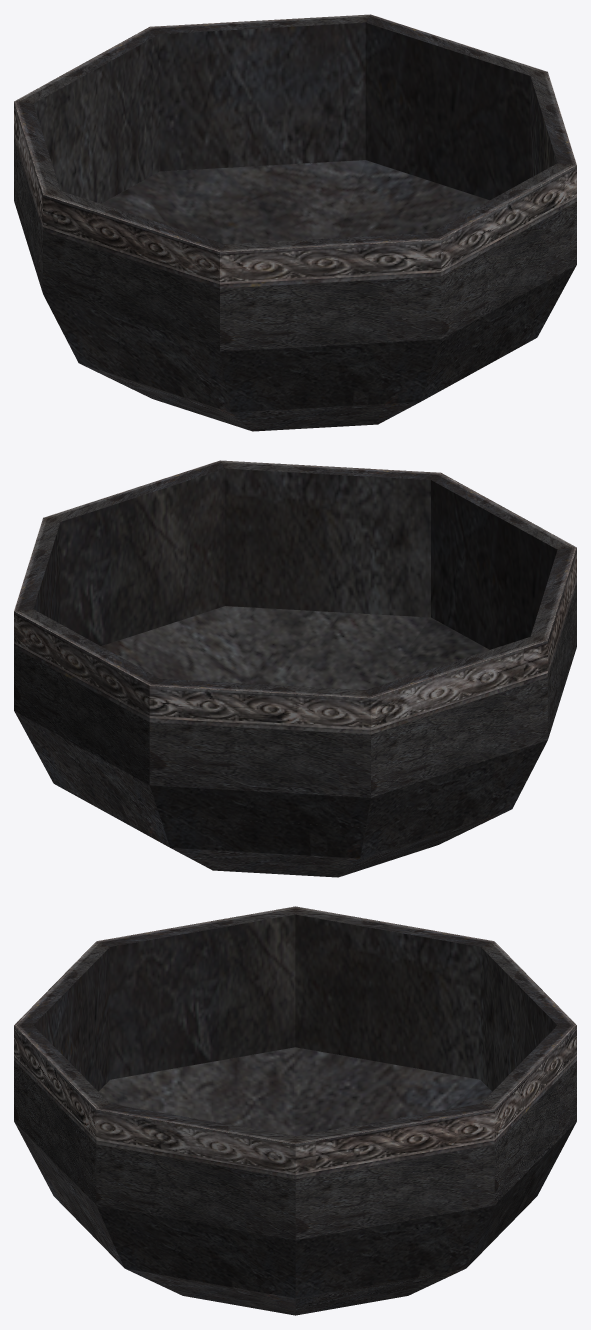
File: tavern_bigplate.dae
3 renders of one model, top to bottom at view 1: azimuth 30°, elevation 25°; view 2: azimuth 150°, elevation 25°; view 3: azimuth 270°, elevation 25°, orthographic. The views are drawn at different scales.
Parts seen in each view (by area): view 1: Default_Layer; view 2: Default_Layer; view 3: Default_Layer.
Boxes of the visible parts, x1,y1,x2,y2 form: Default_Layer: (14,14,576,431); Default_Layer: (14,460,576,877); Default_Layer: (14,906,576,1315).
Size of the model in its own units: 1.28 by 0.5579 by 1.28.
